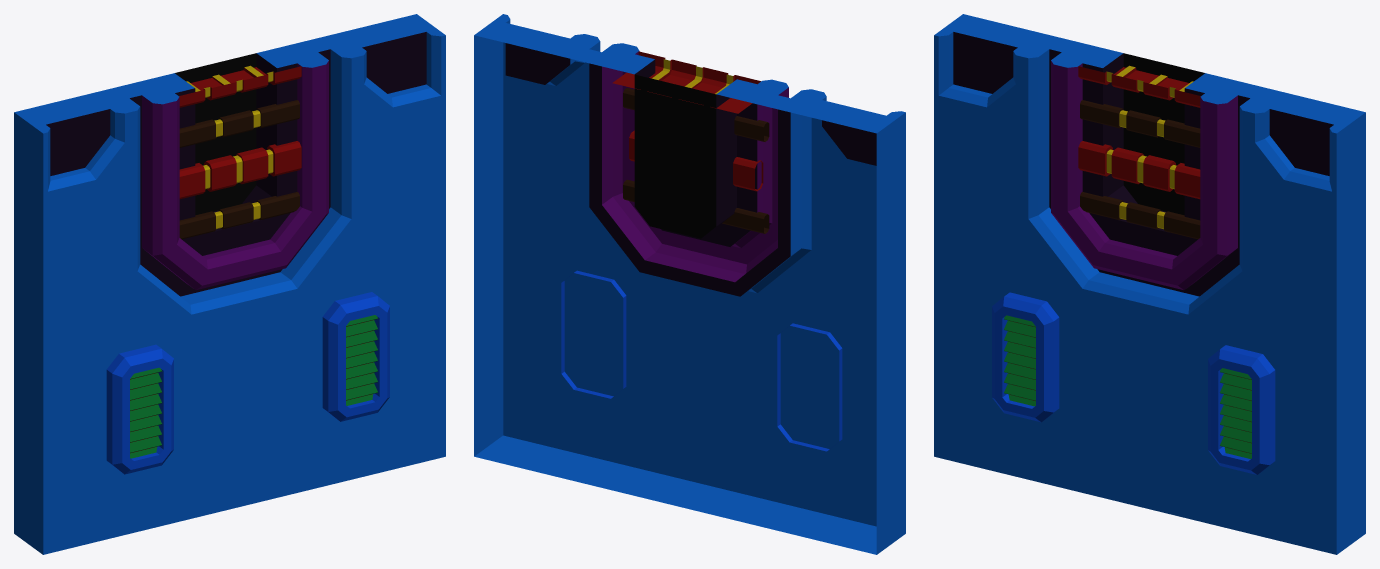
Rendered from OBJ_3_Mur_Sym.fbx.
3 views of the same model, side by side, from view 1: azimuth 30°, elevation 25°; view 2: azimuth 150°, elevation 25°; view 3: azimuth 330°, elevation 25° (orthographic).
Visible parts, largest first — view 1: OBJ_3_Mur_Sym; view 2: OBJ_3_Mur_Sym; view 3: OBJ_3_Mur_Sym.
Part boxes in pixels (<box>): OBJ_3_Mur_Sym: <box>14,14,445,554</box>; OBJ_3_Mur_Sym: <box>474,14,905,554</box>; OBJ_3_Mur_Sym: <box>934,14,1365,554</box>.
Bounding box in the file's own units: 16 × 16 × 2.66.
